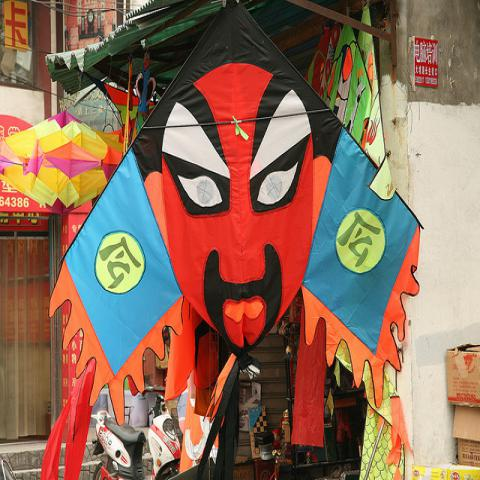motorcycle: (89, 386, 182, 479)
